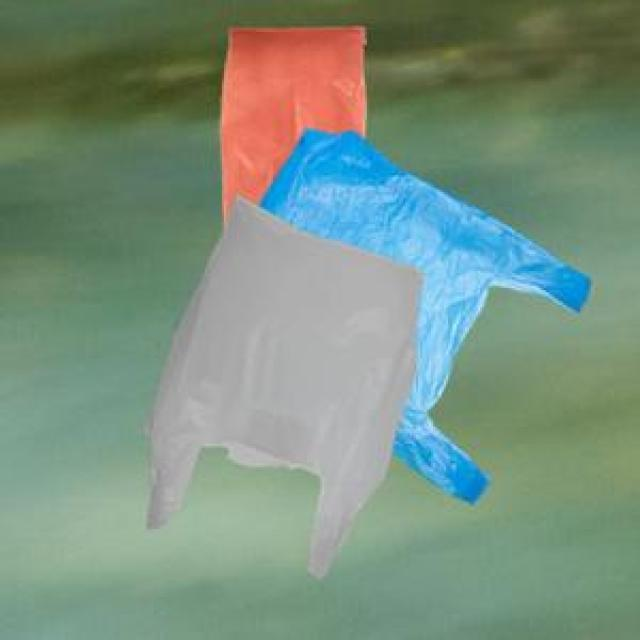waste: (148, 28, 590, 577)
